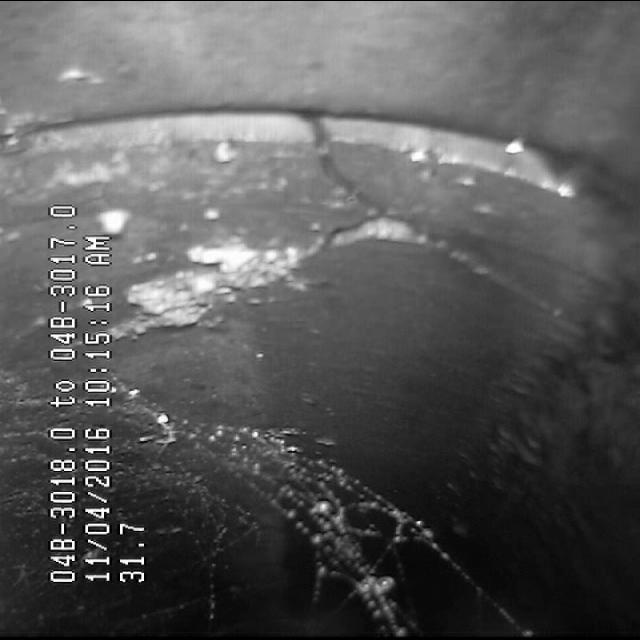Crack: (150, 142, 467, 324)
